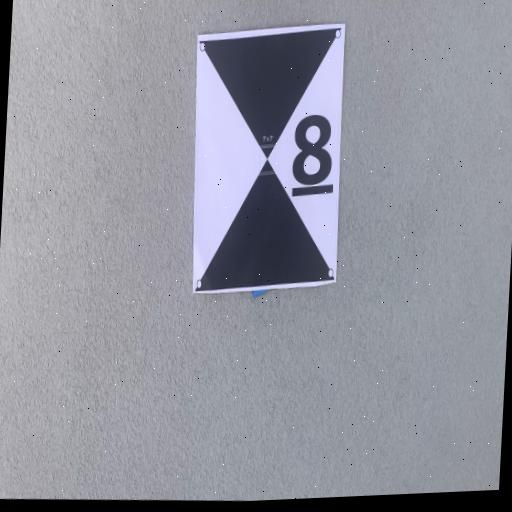target8: (193, 25, 345, 294)
